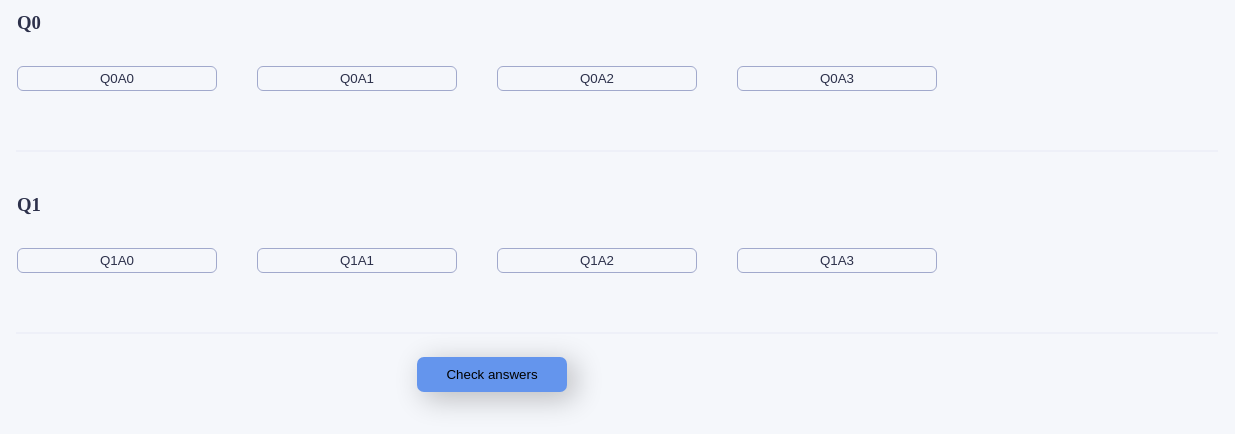
Test case: changes the check answers button with new game button after check answers button is pressed
Expected: the text "new game" is not shown
// click check answers button
Click the button "Check answers" at (492, 374), box [417,356,567,392]
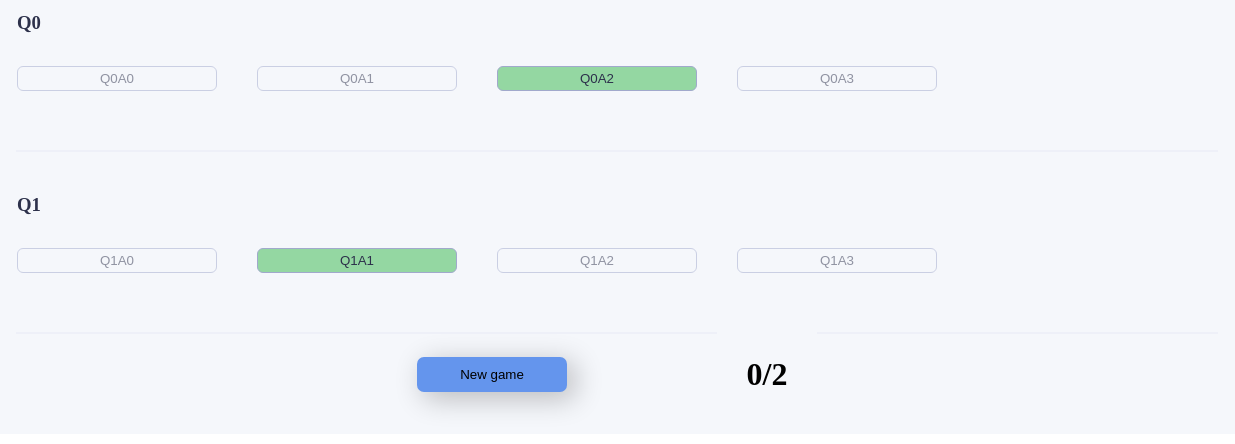
Expected: the button "New game" is shown, [417,356,567,392]
Expected: the text "Check answers" is gone
